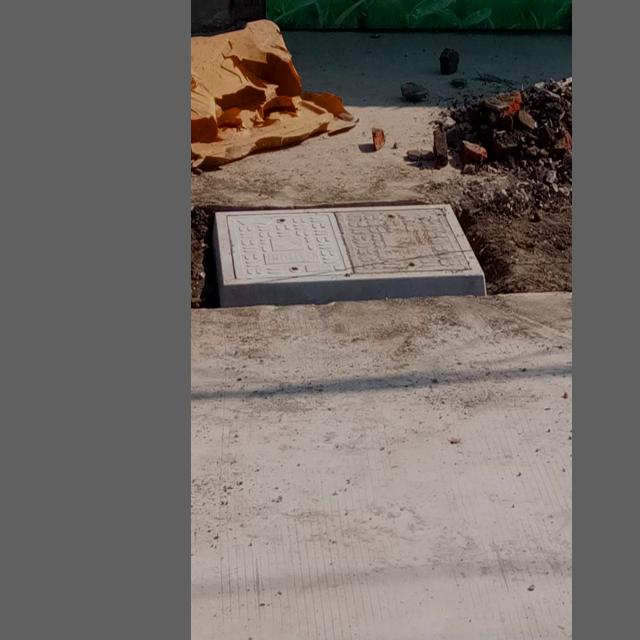good: (213, 203, 483, 286)
